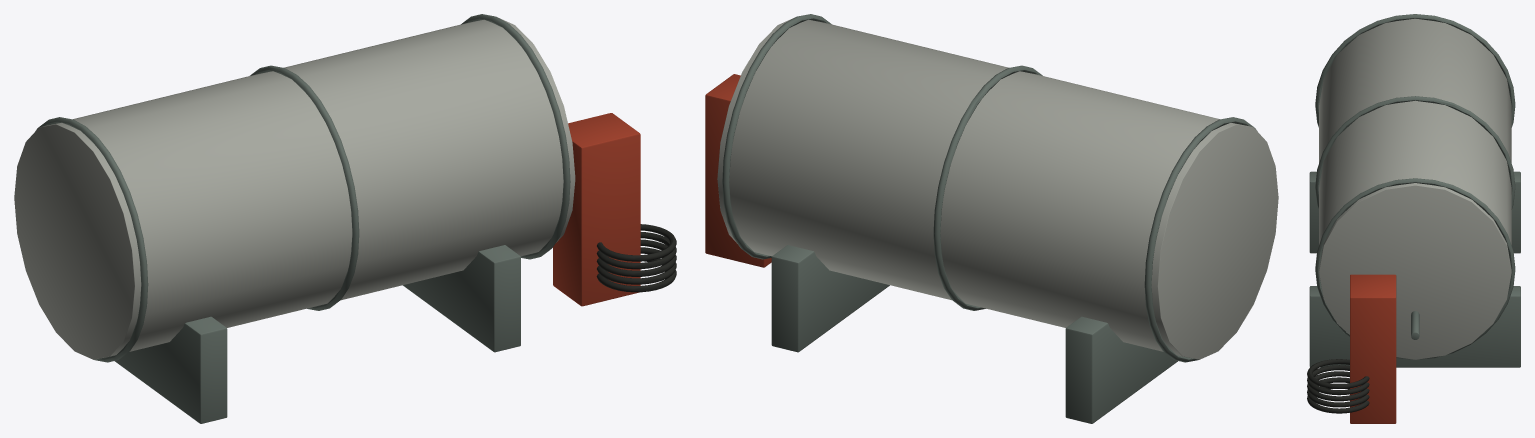
Rendered from FuelStation08.fbx.
3 views of the same model, side by side, from view 1: azimuth 30°, elevation 25°; view 2: azimuth 150°, elevation 25°; view 3: azimuth 270°, elevation 25° (orthographic). The views are drawn at different scales.
Parts seen in each view (by area): view 1: FuelStation08; view 2: FuelStation08; view 3: FuelStation08.
Boxes of the visible parts, x1,y1,x2,y2 form: FuelStation08: [14, 14, 676, 423]; FuelStation08: [705, 14, 1278, 423]; FuelStation08: [1307, 14, 1520, 423].
Size of the model in its own units: 598 by 253 by 273.
